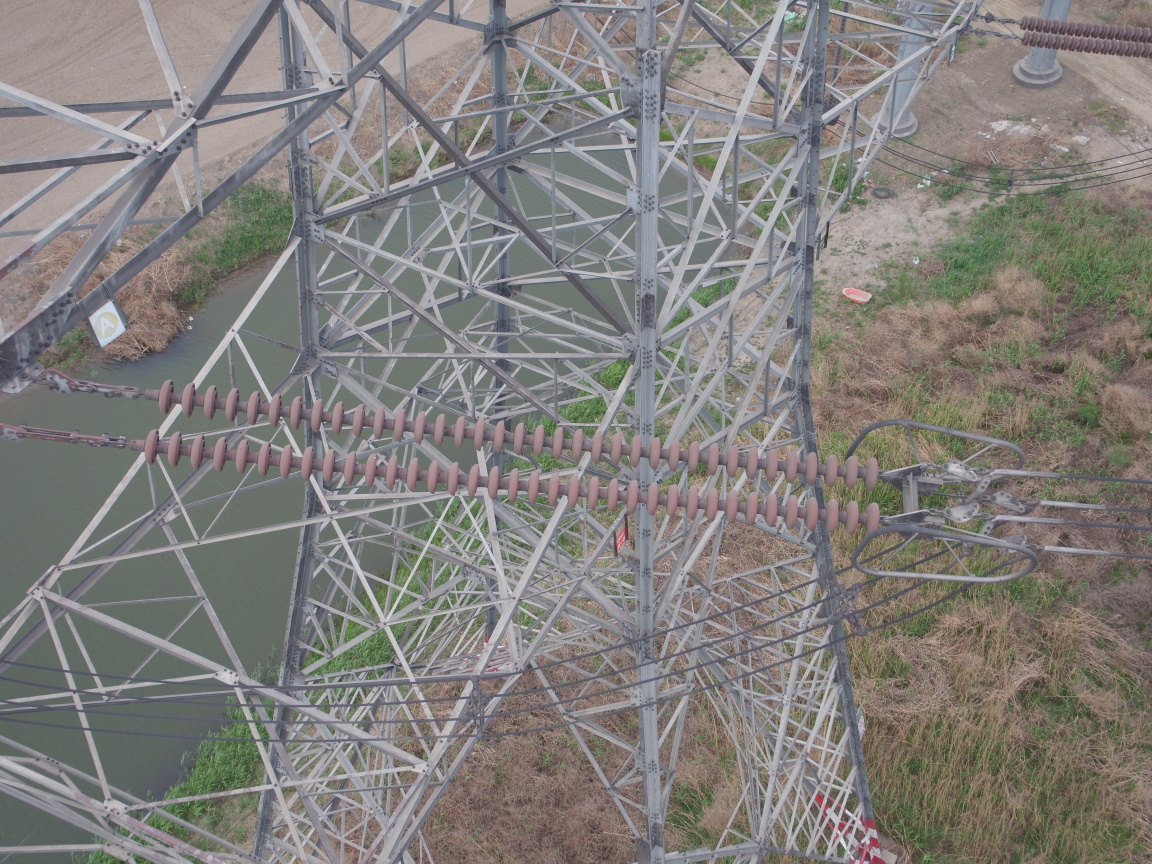insulator: (87, 374, 903, 542), (1000, 10, 1152, 61)
